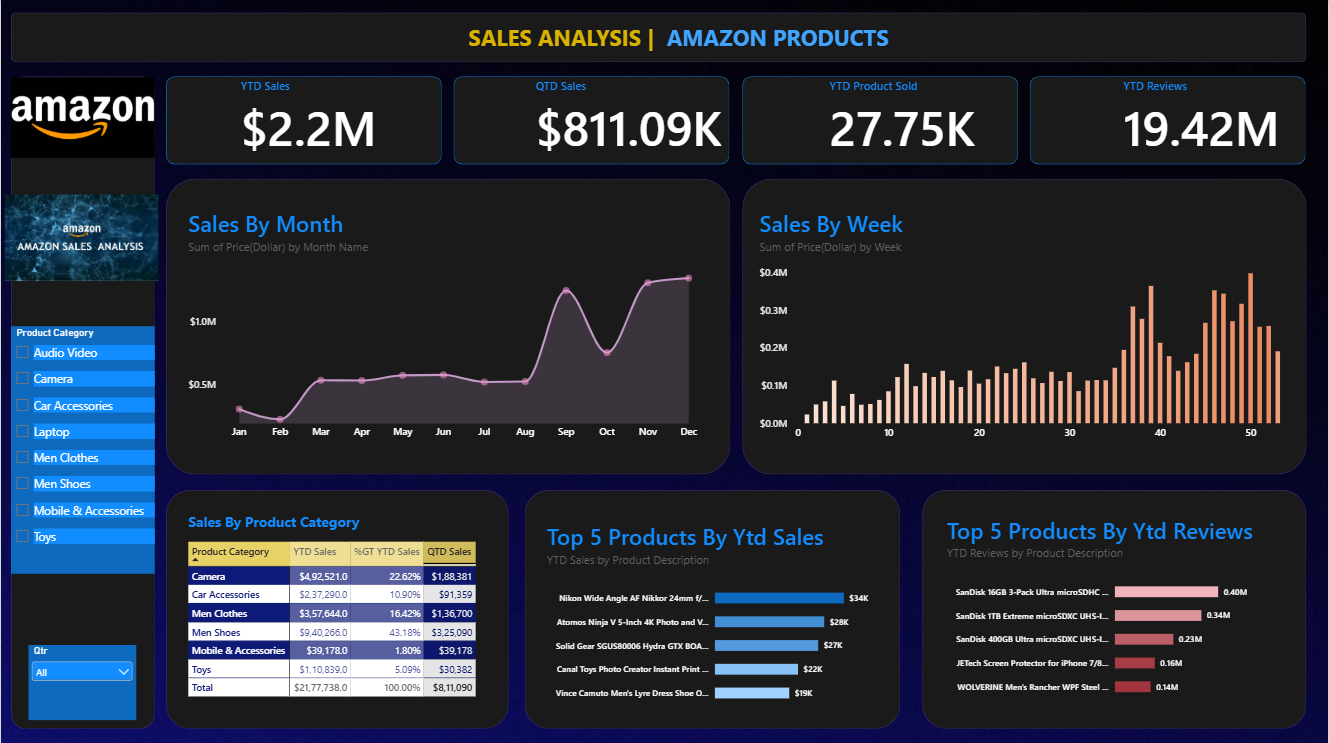

This screenshot's page, from the dashboard's own definition file:
{"tool":"powerbi","page":{"name":"Amazon Sales","canvas":[1920,1080],"ordinal":0},"visuals":[{"type":"shape","box":[14.4,18.5,1875.1,72],"z":0},{"type":"textbox","box":[677.2,32.9,677.2,49.4],"z":1000},{"type":"shape","box":[14.4,111.1,207.9,944.8],"z":2000},{"type":"shape","box":[238.8,111.1,399.3,127.6],"z":3000},{"type":"cardVisual","fields":{"Data":["Amazon_Data.YTD Sales"]},"box":[331.4,84.9,345.8,175],"z":4000},{"type":"shape","box":[655.9,111.1,399.3,127.6],"z":5000},{"type":"shape","box":[1073.1,111.1,399.3,127.6],"z":6000},{"type":"shape","box":[1490.2,111.1,399.3,127.6],"z":7000},{"type":"cardVisual","fields":{"Data":["Amazon_Data.QTD Sales"]},"box":[757.5,84.9,345.8,175],"z":8000},{"type":"cardVisual","fields":{"Data":["Amazon_Data.YTD Product Sold"]},"box":[1183.5,84.9,345.8,175],"z":9000},{"type":"cardVisual","fields":{"Data":["Amazon_Data.YTD Reviews"]},"box":[1609.2,84.9,310.8,175],"z":10000},{"type":"shape","box":[238.8,259.3,817.2,428.1],"z":11000},{"type":"areaChart","title":"Sales By Month","fields":{"Category":["Date Table.Month Name"],"Y":["Sum(Amazon_Data.Price(Dollar))"]},"box":[255.2,288.2,780.1,368.4],"z":11001},{"type":"shape","box":[1072.4,259.3,817.2,428.1],"z":11002},{"type":"columnChart","title":"Sales By Week","fields":{"Category":["Date Table.Week"],"Y":["Sum(Amazon_Data.Price(Dollar))"]},"box":[1082.7,288.2,817,369],"z":11003},{"type":"shape","box":[238.8,710.1,496.1,345.8],"z":11004},{"type":"pivotTable","title":"Sales By Product Category","fields":{"Rows":["Amazon_Data.Product Category"],"Values":["Amazon_Data.YTD Sales1","Amazon_Data.YTD Sales","Amazon_Data.QTD Sales"]},"box":[255.2,726.6,479.6,329.3],"z":11005},{"type":"shape","box":[757.5,710.1,543.4,345.8],"z":11006},{"type":"shape","box":[1333.8,710.1,555.7,345.8],"z":11007},{"type":"clusteredBarChart","title":"Top 5 Products By Ytd Sales","fields":{"Category":["Amazon_Data.Product Description"],"Y":["Amazon_Data.YTD Sales"]},"box":[774.5,740.2,497.7,302.2],"z":11008},{"type":"clusteredBarChart","title":"Top 5 Products By Ytd Reviews","fields":{"Category":["Amazon_Data.Product Description"],"Y":["Amazon_Data.YTD Reviews"]},"box":[1353.6,731.1,497.7,302.2],"z":11009},{"type":"slicer","fields":{"Values":["Amazon_Data.Product Category"]},"box":[14.5,472.3,208.1,358.3],"z":11010},{"type":"slicer","fields":{"Values":["Date Table.Qtr"]},"box":[39.8,933.8,155.6,108.6],"z":11011},{"type":"image","box":[14.5,81.4,208.1,177.3],"z":11012},{"type":"image","box":[5.4,238.9,222.6,209.9],"z":11013}]}

Visuals, with their boxes in screenshot pixels (x1, y1, x2, y2), scaled from the page's 1920x1080 canvas onto the 1329x743 screenshot:
shape: bbox=(10, 13, 1308, 62)
textbox: bbox=(469, 23, 937, 57)
shape: bbox=(10, 76, 154, 726)
shape: bbox=(165, 76, 442, 164)
cardVisual - Amazon_Data.YTD Sales: bbox=(229, 58, 469, 179)
shape: bbox=(454, 76, 730, 164)
shape: bbox=(743, 76, 1019, 164)
shape: bbox=(1031, 76, 1308, 164)
cardVisual - Amazon_Data.QTD Sales: bbox=(524, 58, 764, 179)
cardVisual - Amazon_Data.YTD Product Sold: bbox=(819, 58, 1059, 179)
cardVisual - Amazon_Data.YTD Reviews: bbox=(1114, 58, 1328, 179)
shape: bbox=(165, 178, 731, 473)
"Sales By Month" areaChart: bbox=(177, 198, 717, 452)
shape: bbox=(742, 178, 1308, 473)
"Sales By Week" columnChart: bbox=(749, 198, 1315, 452)
shape: bbox=(165, 489, 509, 726)
"Sales By Product Category" pivotTable: bbox=(177, 500, 509, 726)
shape: bbox=(524, 489, 900, 726)
shape: bbox=(923, 489, 1308, 726)
"Top 5 Products By Ytd Sales" clusteredBarChart: bbox=(536, 509, 881, 717)
"Top 5 Products By Ytd Reviews" clusteredBarChart: bbox=(937, 503, 1281, 711)
slicer - Amazon_Data.Product Category: bbox=(10, 325, 154, 571)
slicer - Date Table.Qtr: bbox=(28, 642, 135, 717)
image: bbox=(10, 56, 154, 178)
image: bbox=(4, 164, 158, 309)
